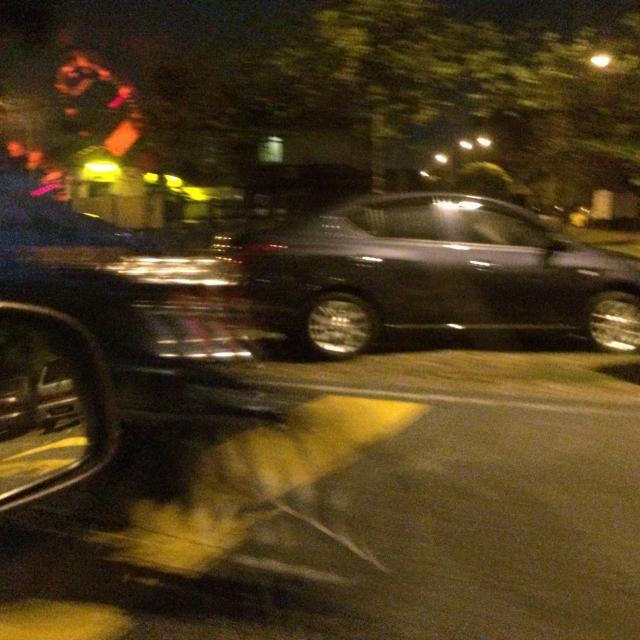Car: (226, 184, 640, 350)
